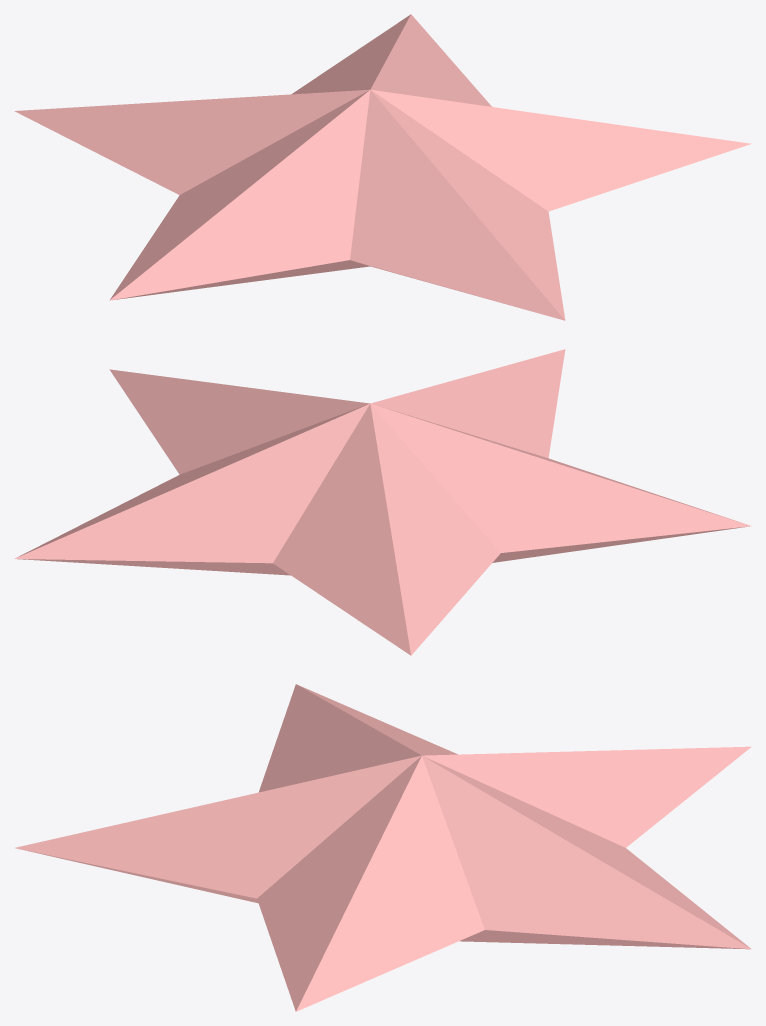
Rendered from star_pink.glb.
3 renders of one model, top to bottom at view 1: azimuth 30°, elevation 25°; view 2: azimuth 150°, elevation 25°; view 3: azimuth 270°, elevation 25°, orthographic. The views are drawn at different scales.
Visible parts, largest first — view 1: 円, 円.001; view 2: 円, 円.001; view 3: 円, 円.001.
Boxes of the visible parts, bbox=[...] form: 円: bbox=[14, 14, 751, 320]; 円.001: bbox=[112, 260, 529, 310]; 円: bbox=[14, 349, 751, 655]; 円.001: bbox=[17, 526, 749, 575]; 円: bbox=[15, 684, 751, 1011]; 円.001: bbox=[19, 849, 749, 949].
Size of the model in its own units: 0.3805 by 0.1 by 0.3618.
